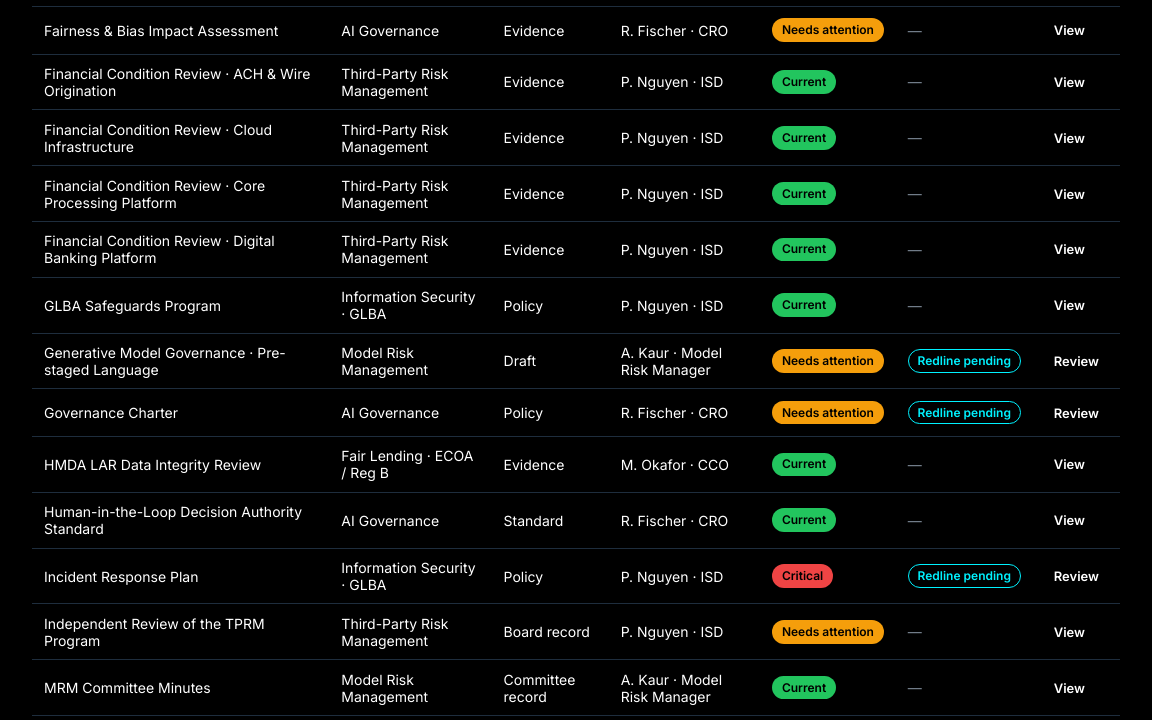
Scenario: ONSIDE-02 · Adopt cascade through the shared store (base 3204-3211) › ONSIDE-11: adopting gen-ai-draft flips nothing (no doc.obl cascade branch)
The width and height of the screenshot is (1152, 720).
(page scrolled)
What coordinates should you click on to do the following:
click the 1st button "Review"
I would click on:
 (1076, 361)
Its box is 1045,348 -> 1108,374.
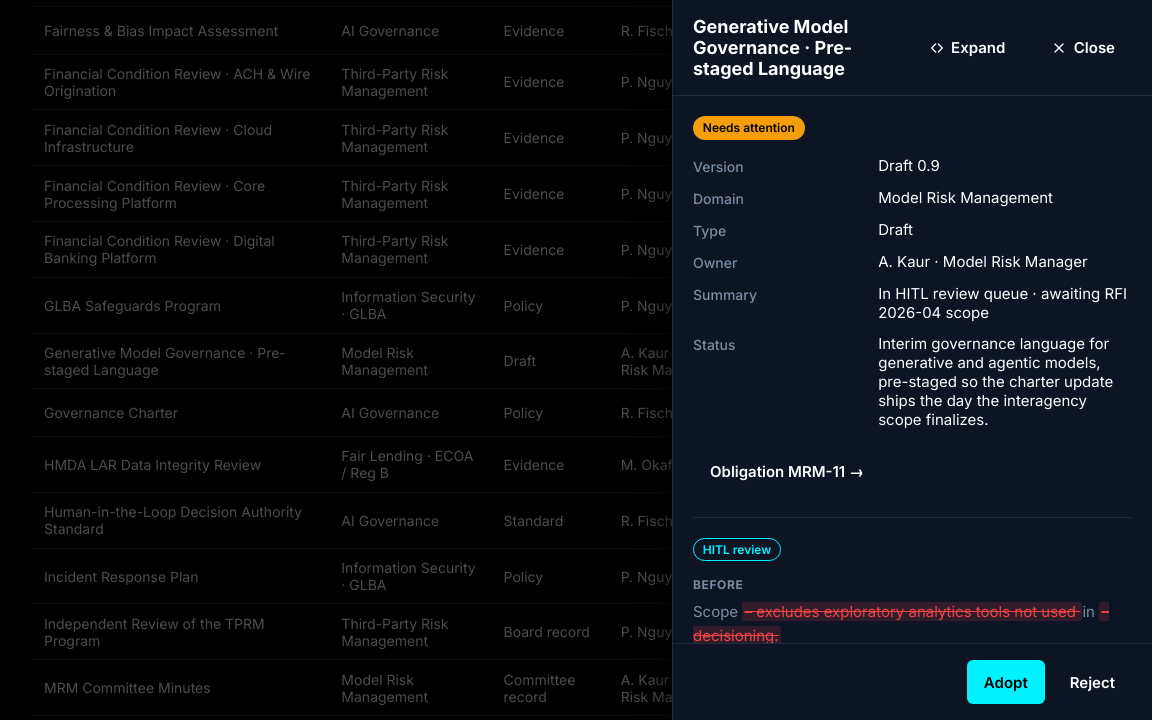
What coordinates should you click on to do the following:
click the button "Adopt"
I would click on:
 (1006, 682)
Its box is 967,660 -> 1045,704.
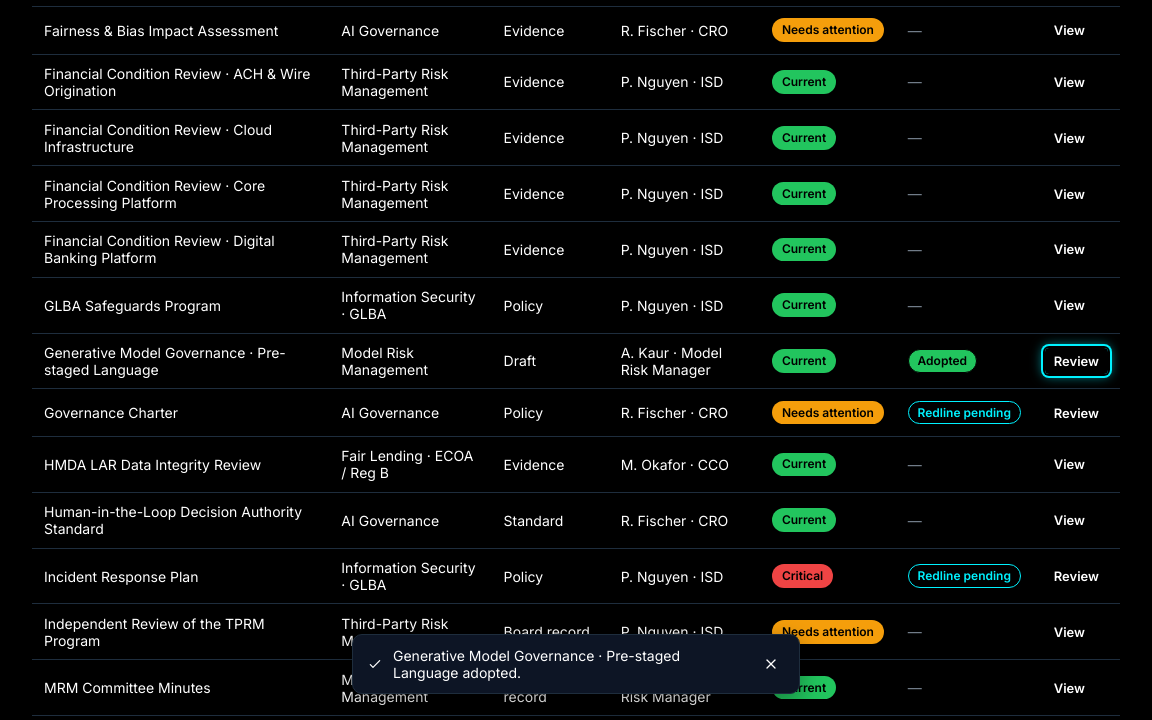
Check: the text "Generative Model Governance · Pre-staged Language adopted." is shown, box 393,647 -> 680,681
